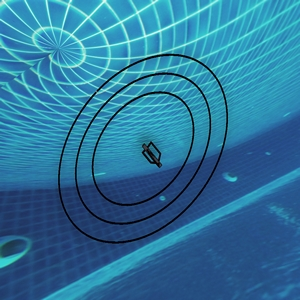circle: (48, 37, 230, 253)
submarine: (140, 141, 163, 168)
